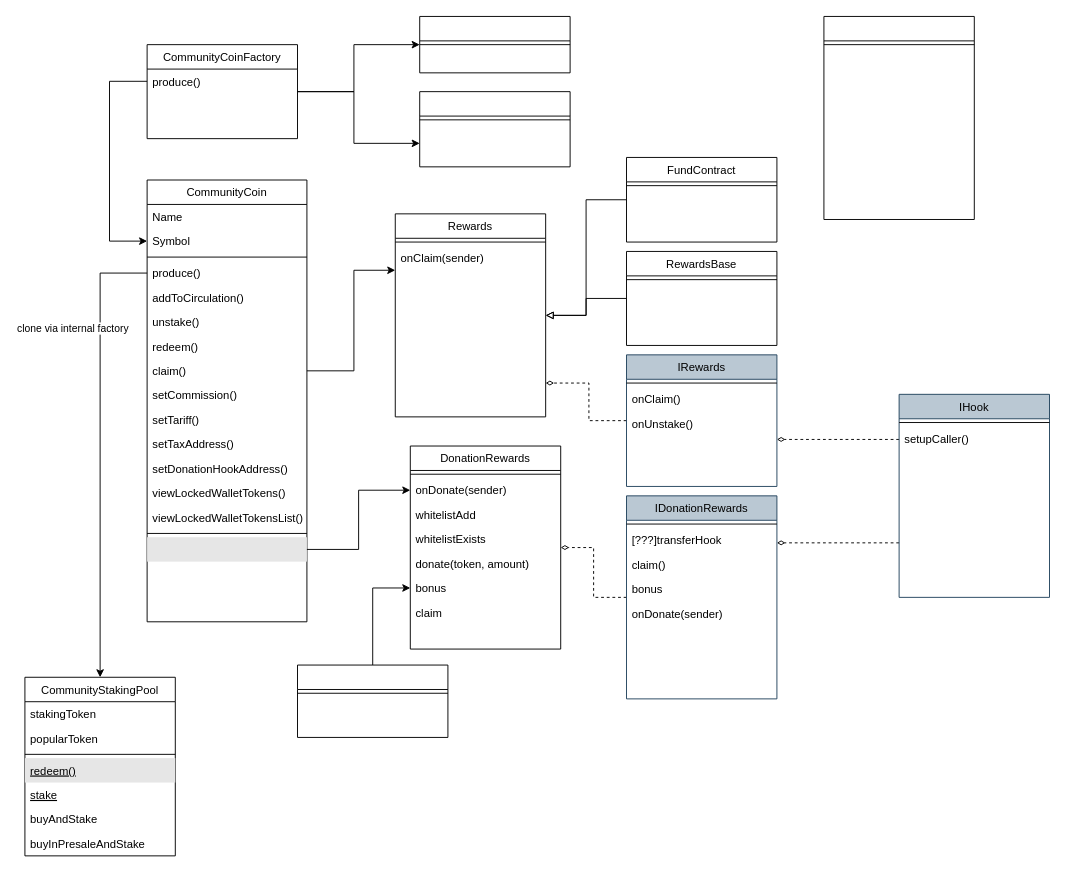
Some shapes in this 1066 by 875 pixel diagram are drawn without their labels. The centre of each missing label's shape, as x and y in pixels:
Community: the point at 898,117
CostManager: the point at 494,44
issueWalletTokens(): the point at 226,549
ReleaseManager: the point at 494,129
some contract: the point at 372,700
